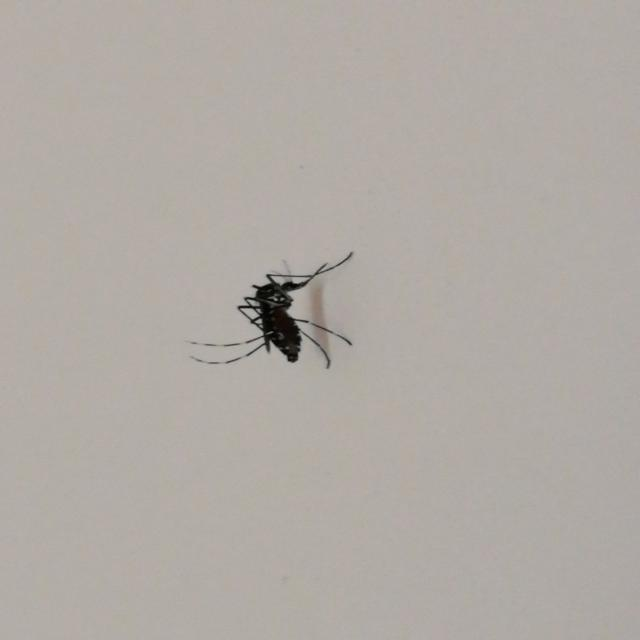albopictus: (180, 242, 358, 372)
